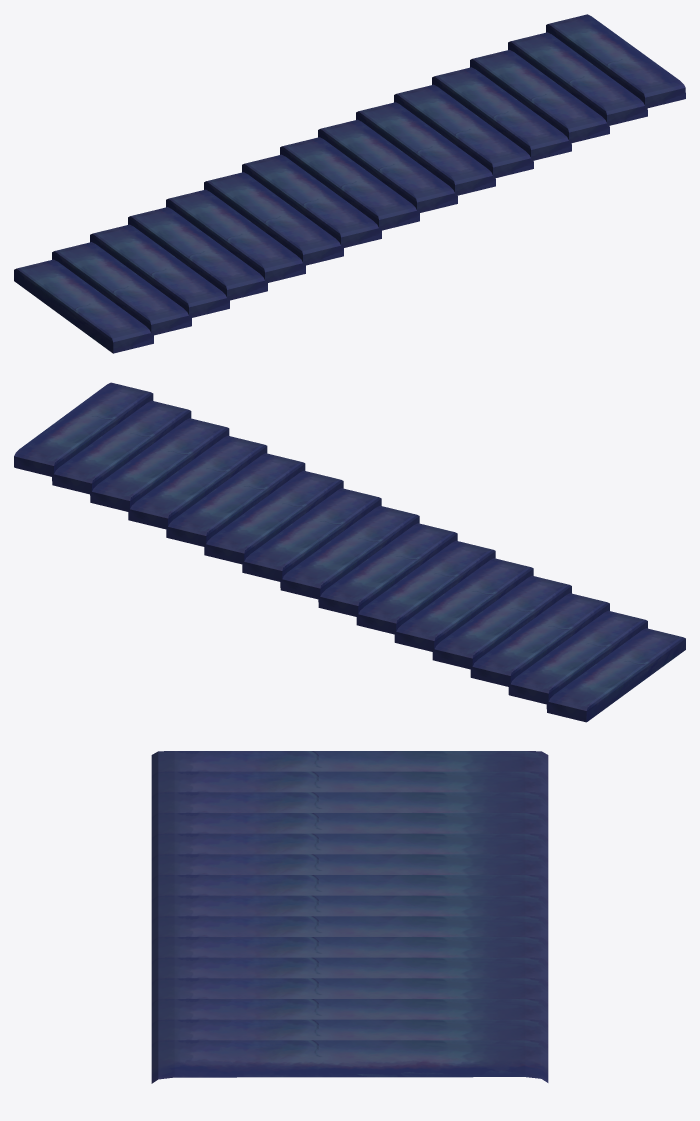
File: Stairs_low.glb
3 renders of one model, top to bottom at view 1: azimuth 30°, elevation 25°; view 2: azimuth 150°, elevation 25°; view 3: azimuth 270°, elevation 25°, orthographic. The views are drawn at different scales.
Parts seen in each view (by area): view 1: Stairs Straigh; view 2: Stairs Straigh; view 3: Stairs Straigh.
Boxes of the visible parts, x1,y1,x2,y2 form: Stairs Straigh: (14, 14, 685, 353); Stairs Straigh: (14, 382, 685, 722); Stairs Straigh: (151, 751, 548, 1083).
Bounding box in the file's own units: 21.91 × 4.73 × 6.57.
Materials: 1 (1 with a texture image).
